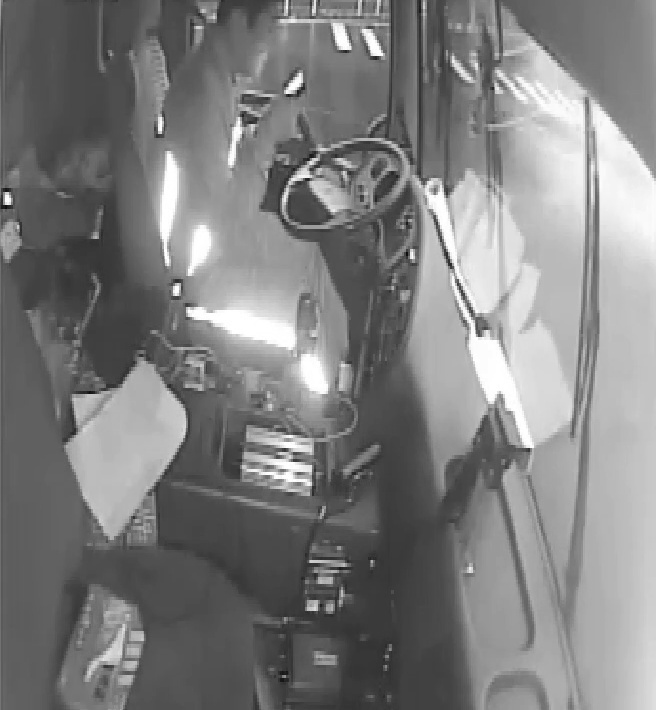cellphone: (271, 66, 304, 113)
